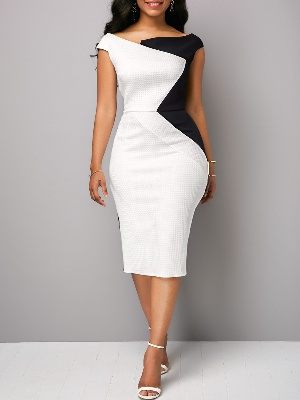dress: (90, 22, 223, 283)
hand: (83, 27, 118, 206)
torso: (91, 19, 214, 127)
